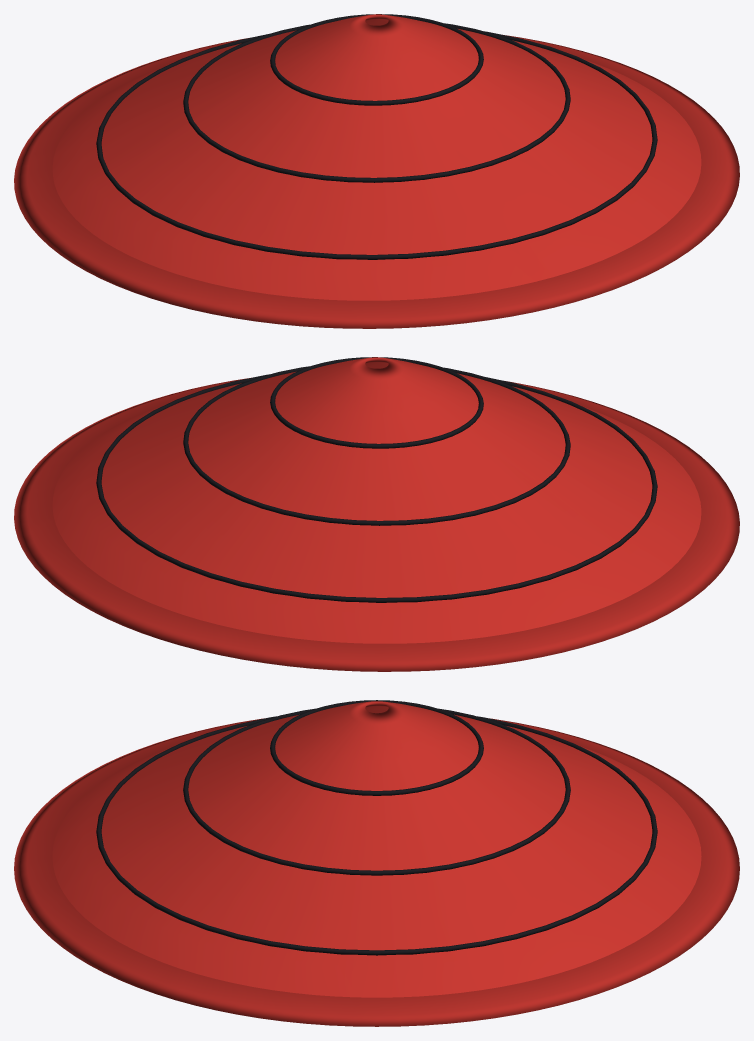
File: hw_conical.glb
3 renders of one model, top to bottom at view 1: azimuth 30°, elevation 25°; view 2: azimuth 150°, elevation 25°; view 3: azimuth 270°, elevation 25°, orthographic. The views are drawn at different scales.
Visible parts, largest first — view 1: hw_conical, hw_conical@flat, hw_conical_rings; view 2: hw_conical, hw_conical@flat, hw_conical_rings; view 3: hw_conical, hw_conical@flat, hw_conical_rings.
Boxes of the visible parts, <box> form: hw_conical: <box>52,14,701,300</box>; hw_conical@flat: <box>14,34,739,328</box>; hw_conical_rings: <box>96,14,657,259</box>; hw_conical: <box>52,357,701,643</box>; hw_conical@flat: <box>14,377,739,671</box>; hw_conical_rings: <box>96,357,657,602</box>; hw_conical: <box>52,701,701,997</box>; hw_conical@flat: <box>14,718,739,1026</box>; hw_conical_rings: <box>96,700,657,955</box>.
Bounding box in the file's own units: 1.38 × 0.3263 × 1.34.
